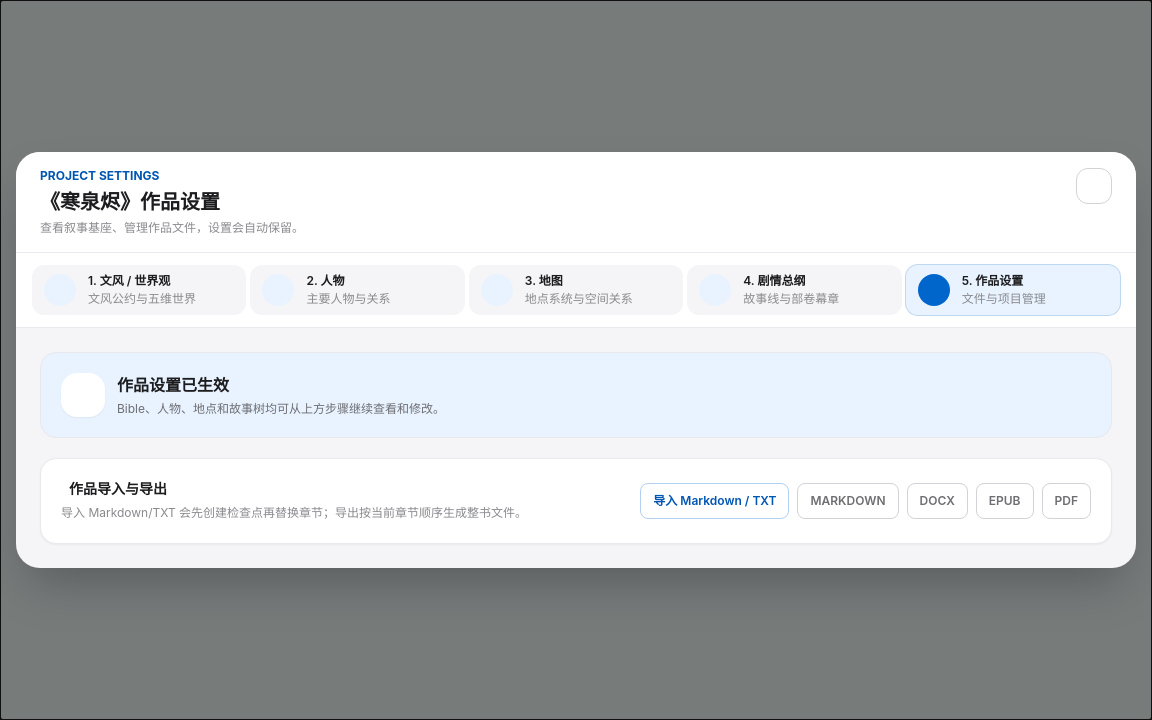
Test: NovelSetupWizard › 完成设置后可返回任意已完成步骤查看结果
The width and height of the screenshot is (1152, 720).
Expected: the heading "作品设置已生效" is shown, [117, 375, 229, 395]
What coordinates should you click on to do the following:
click the button "1. 文风 / 世界观 文风公约与五维世界"
I would click on:
 (139, 290)
Its box is [32, 265, 246, 315].
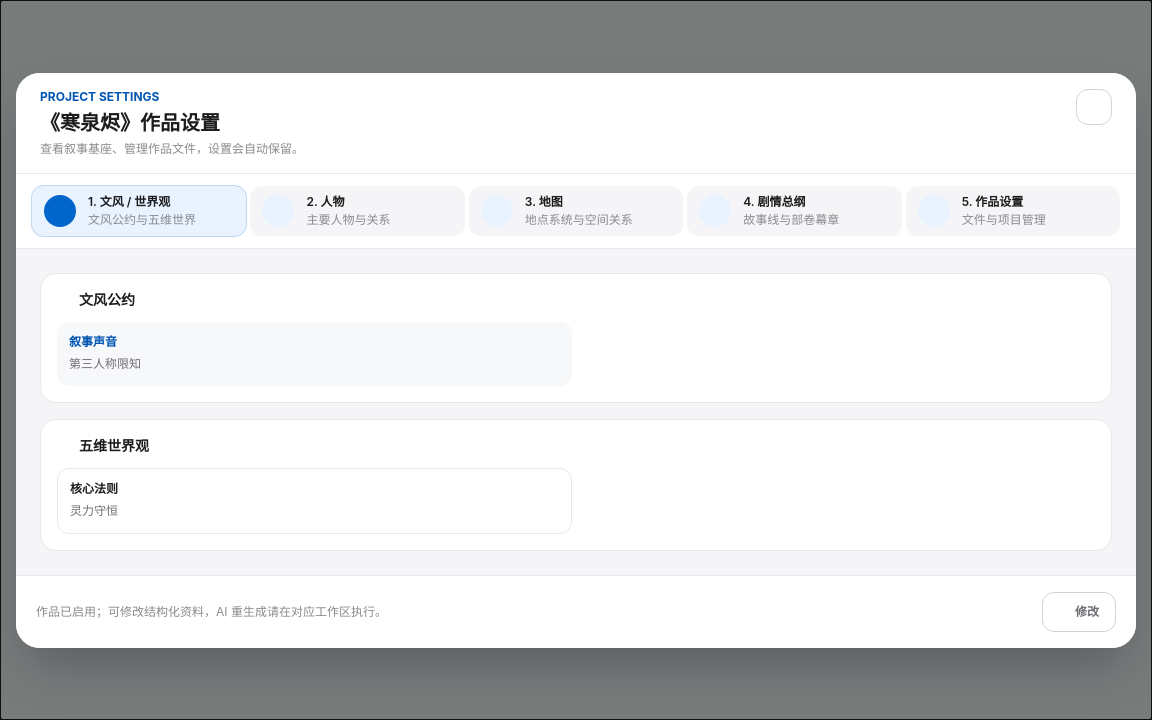
Now the text "灵力守恒" is shown, box [70, 502, 118, 518]
